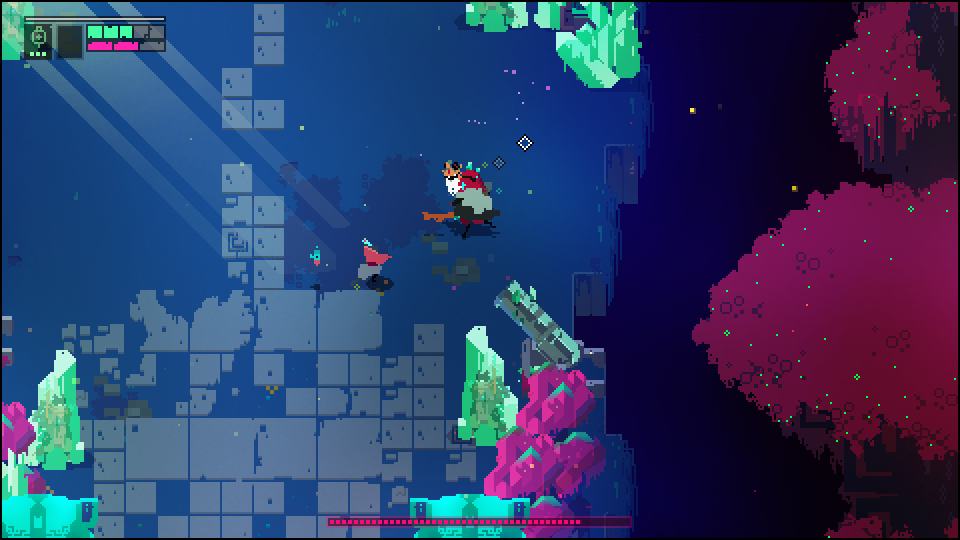hanged_man: (426, 159, 494, 230)
player: (355, 241, 390, 284)
